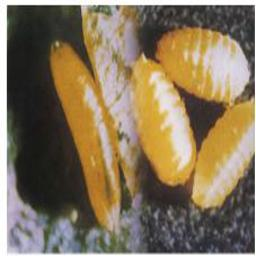liriomyza: (48, 39, 121, 232), (128, 50, 196, 186), (191, 94, 256, 210), (154, 25, 249, 104)
